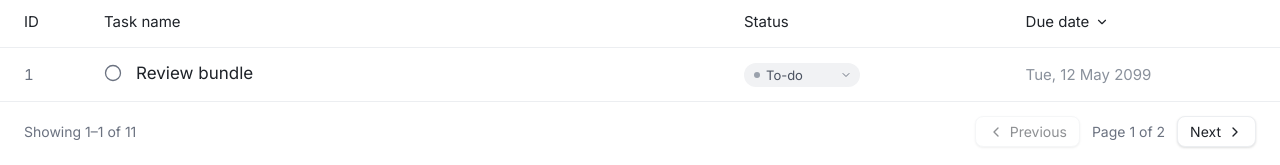
TaskTable › loads the next page
Click the button "Next". click: (1217, 132)
box: x1=1177 y1=116 x2=1256 y2=147
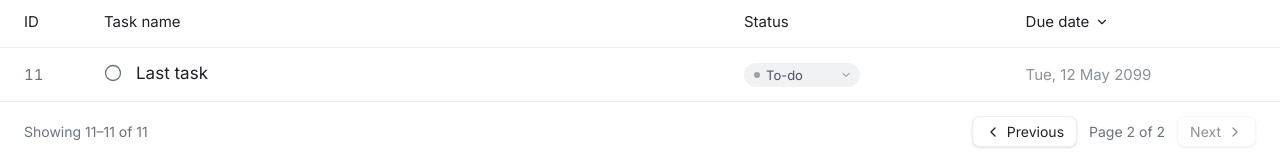
Now the text "Last task" is shown, box x1=136 y1=63 x2=208 y2=83
Now the button "Next" is disabled, box x1=1177 y1=116 x2=1256 y2=147
